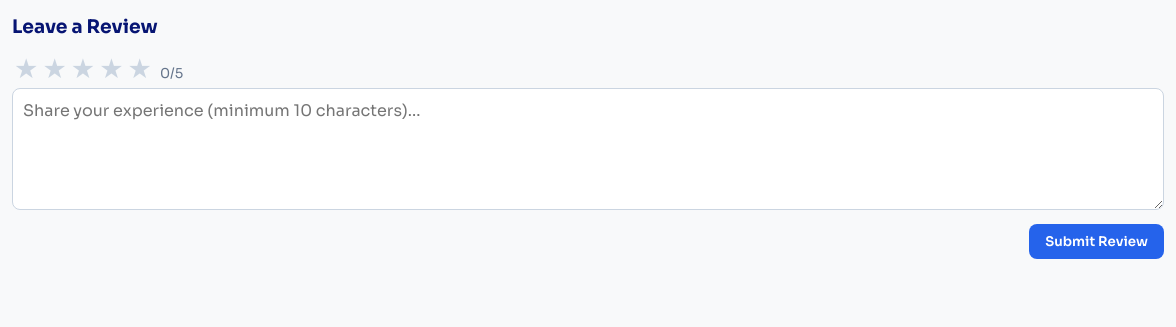
Test: ReviewForm › validates rating and comment length
The image size is (1176, 327).
Click the button "Submit Review" at (1097, 242), box x1=1029 y1=224 x2=1164 y2=259
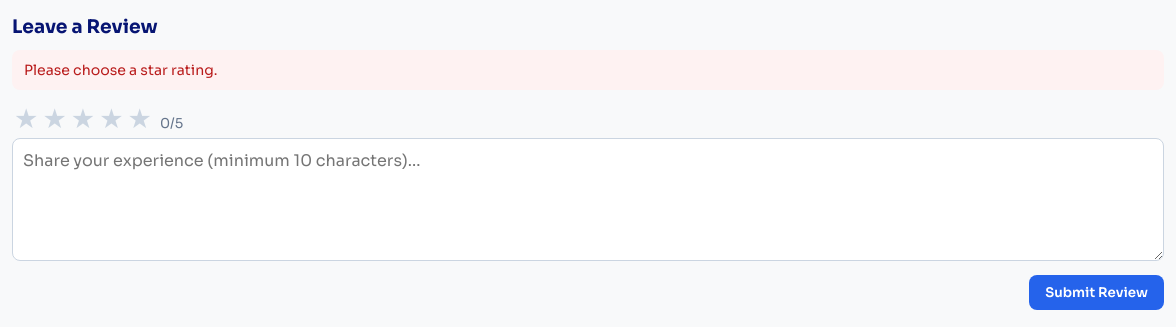
Expected: the message shows "star rating", x1=24 y1=61 x2=217 y2=79
Click the radio button named "4 stars" at (111, 120), box x1=97 y1=100 x2=126 y2=138
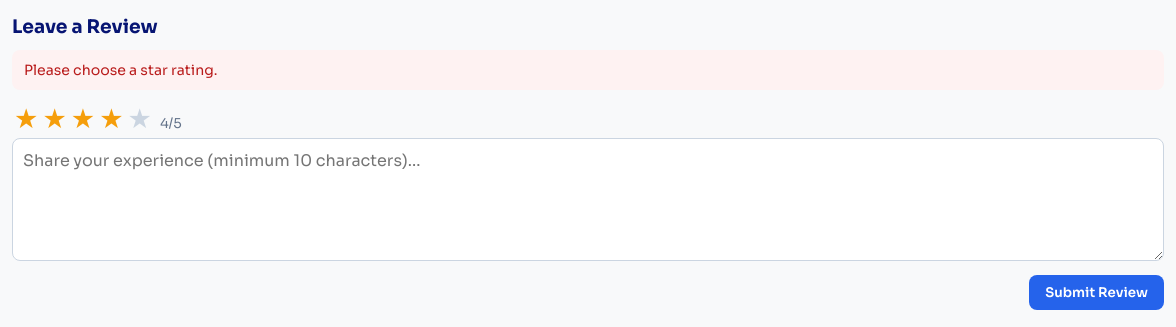
Type "short" into the text box with placeholder "Share your experience (minimum 10 characters)..." at (588, 200), box x1=12 y1=138 x2=1164 y2=261
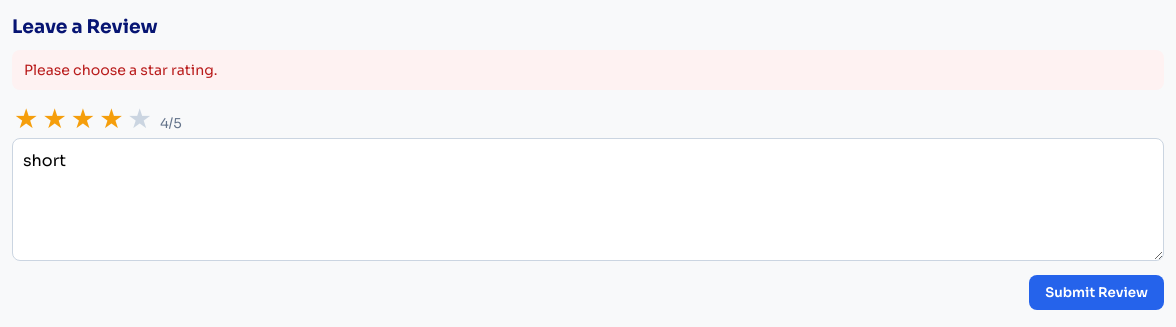
Click the button "Submit Review" at (1097, 292), box x1=1029 y1=275 x2=1164 y2=310
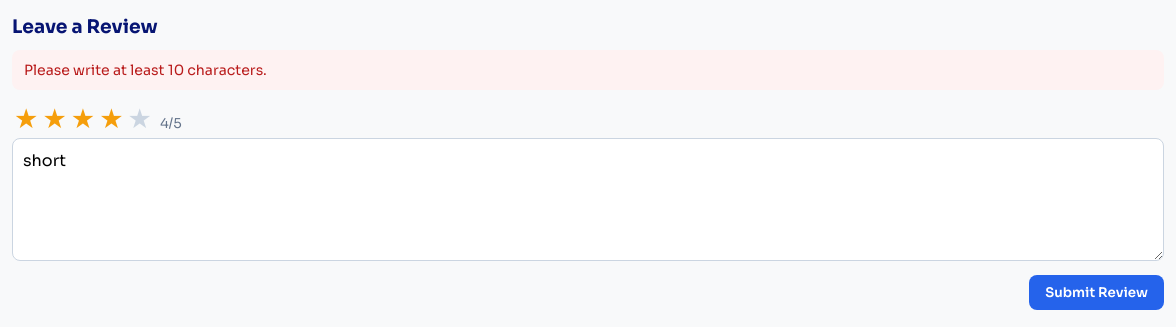
Expected: the message shows "at least 10", x1=24 y1=61 x2=267 y2=79
